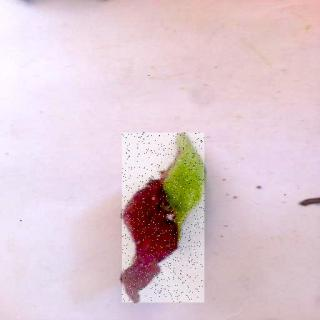Brown Blight: (123, 134, 205, 304)
